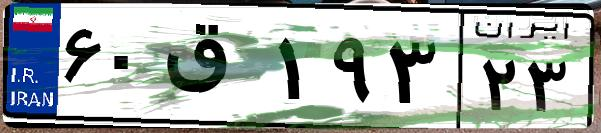0: (110, 28, 158, 98)
1: (270, 28, 330, 110)
2: (475, 38, 525, 113)
3: (385, 28, 445, 110), (525, 38, 570, 115)
6: (57, 26, 110, 100)
9: (330, 28, 385, 110)
ق: (158, 20, 270, 120)
